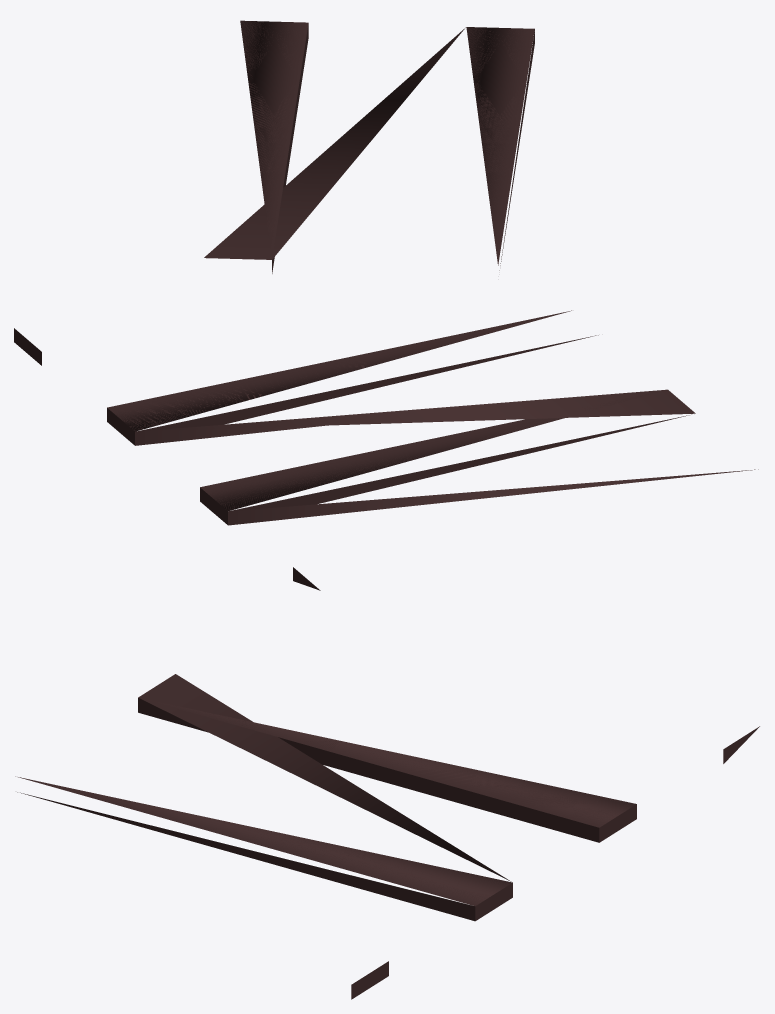
3 renders of one model, top to bottom at view 1: azimuth 30°, elevation 25°; view 2: azimuth 150°, elevation 25°; view 3: azimuth 270°, elevation 25°, orthographic. The views are drawn at different scales.
Bounding box in the file's own units: 3.33 × 0.064 × 2.87.
